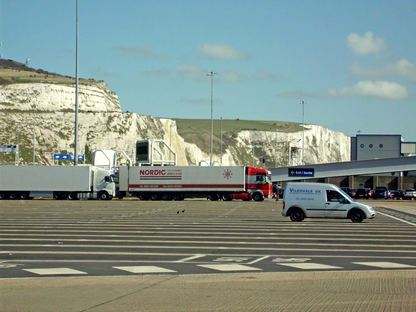truck: (113, 152, 283, 206), (0, 165, 114, 201)
